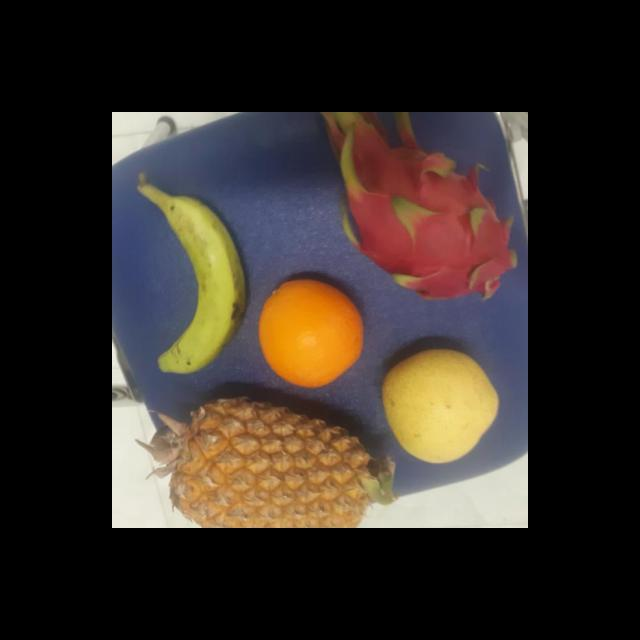banana: (150, 192, 250, 369)
guava: (380, 350, 502, 460)
pineapple: (168, 390, 388, 528)
pitaya: (342, 154, 524, 298)
